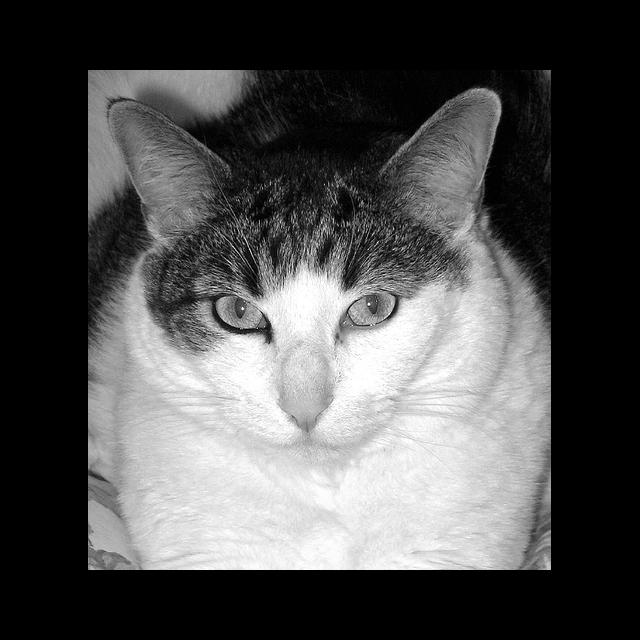animals: (116, 89, 486, 429)
